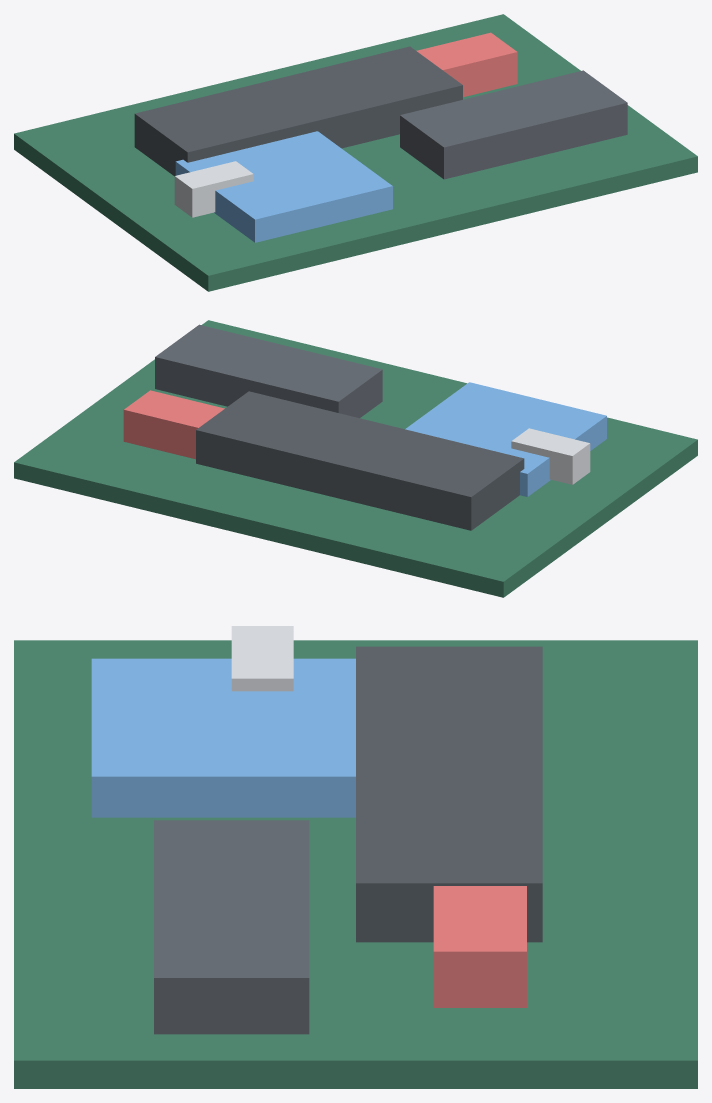
Rendered from microprocessor_8085.glb.
3 renders of one model, top to bottom at view 1: azimuth 30°, elevation 25°; view 2: azimuth 150°, elevation 25°; view 3: azimuth 270°, elevation 25°, orthographic. The views are drawn at different scales.
Visible parts, largest first — view 1: TrainerKitPCB, DIP40_8085Chip, PPI8255Chip, HexKeypadArray, SevenSegmentDisplay, CrystalOscillator; view 2: TrainerKitPCB, DIP40_8085Chip, PPI8255Chip, HexKeypadArray, SevenSegmentDisplay, CrystalOscillator; view 3: TrainerKitPCB, DIP40_8085Chip, HexKeypadArray, PPI8255Chip, SevenSegmentDisplay, CrystalOscillator.
Boxes of the visible parts, x1,y1,x2,y2 form: TrainerKitPCB: [14, 14, 697, 291]; DIP40_8085Chip: [134, 46, 462, 176]; PPI8255Chip: [400, 70, 627, 179]; HexKeypadArray: [175, 131, 392, 242]; SevenSegmentDisplay: [416, 32, 517, 97]; CrystalOscillator: [174, 161, 253, 217]; TrainerKitPCB: [14, 320, 697, 597]; DIP40_8085Chip: [196, 391, 524, 530]; PPI8255Chip: [155, 324, 382, 418]; HexKeypadArray: [405, 382, 606, 496]; SevenSegmentDisplay: [123, 390, 224, 459]; CrystalOscillator: [511, 428, 590, 484]; TrainerKitPCB: [14, 640, 697, 1088]; DIP40_8085Chip: [356, 646, 542, 942]; HexKeypadArray: [91, 658, 355, 817]; PPI8255Chip: [154, 820, 309, 1034]; SevenSegmentDisplay: [433, 886, 526, 1007]; CrystalOscillator: [231, 626, 293, 691].
Bounding box in the file's own units: 3.2 × 0.31 × 2.2.
